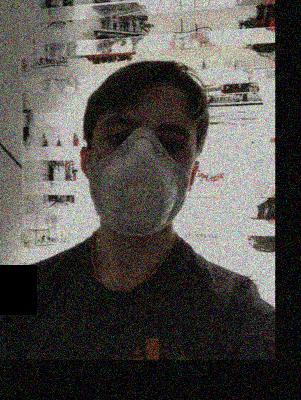with_mask: (88, 102, 194, 236)
